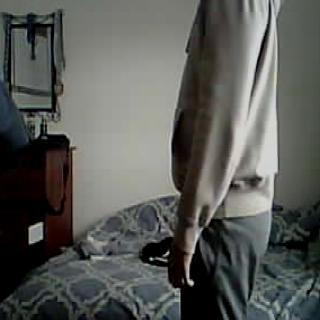Gray Sweatpants: (168, 217, 274, 320)
Yellow Hoodie: (171, 0, 291, 208)
